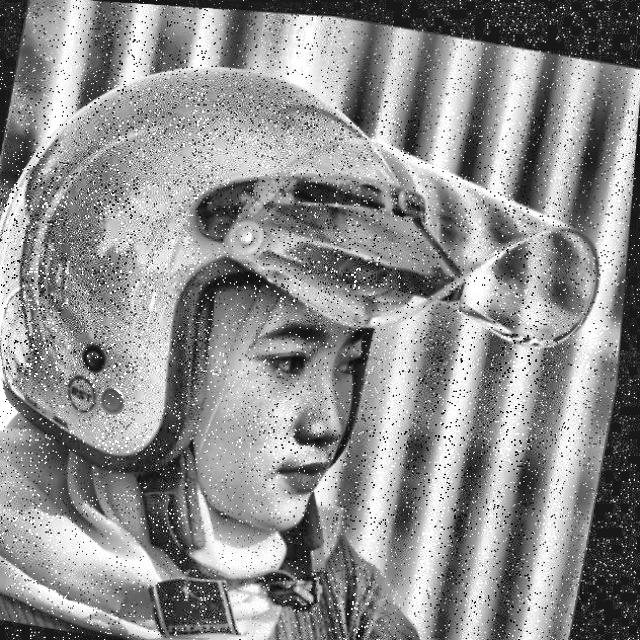Helmet: (0, 20, 639, 640)
